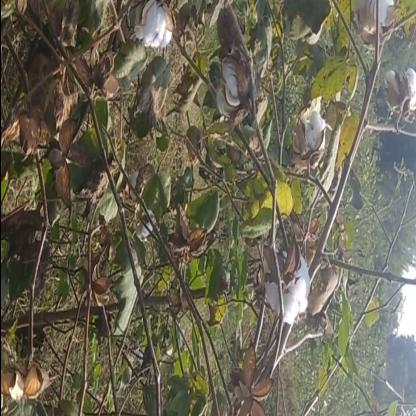cotton_ready: (209, 24, 276, 174), (357, 1, 411, 146), (252, 237, 312, 349), (129, 0, 176, 78), (284, 96, 320, 174)
